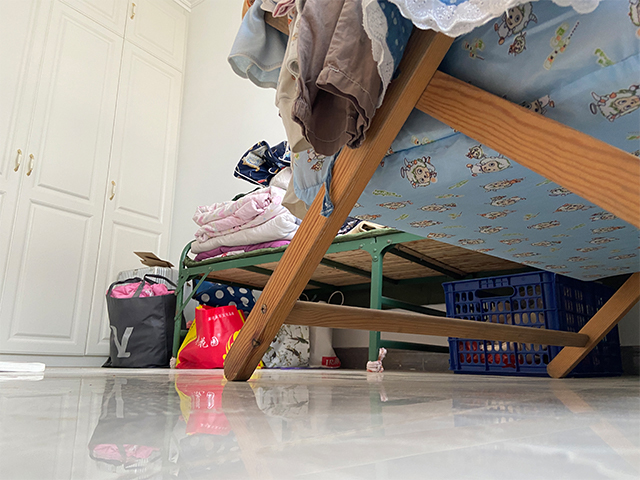bed: (171, 228, 527, 373)
book: (1, 362, 47, 373)
cabinet: (1, 1, 194, 369)
